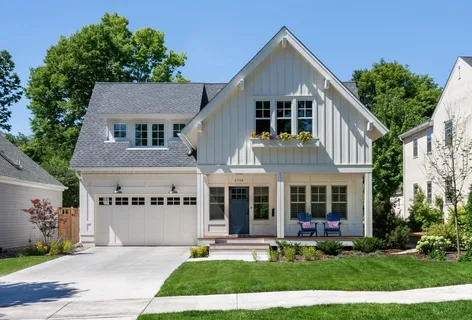private_hause: (78, 36, 383, 247)
